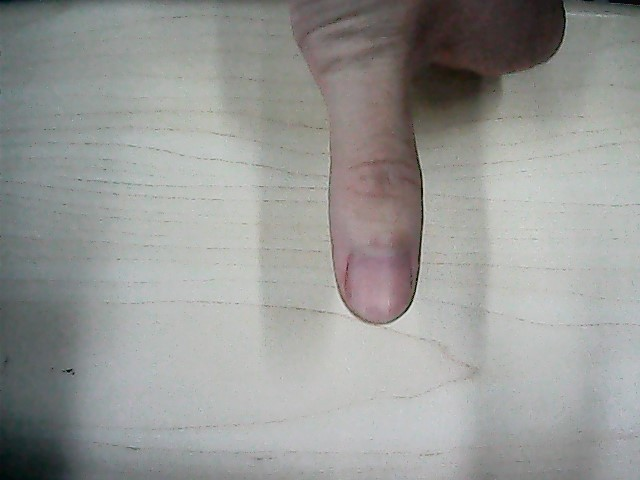nail: (346, 250, 413, 325)
